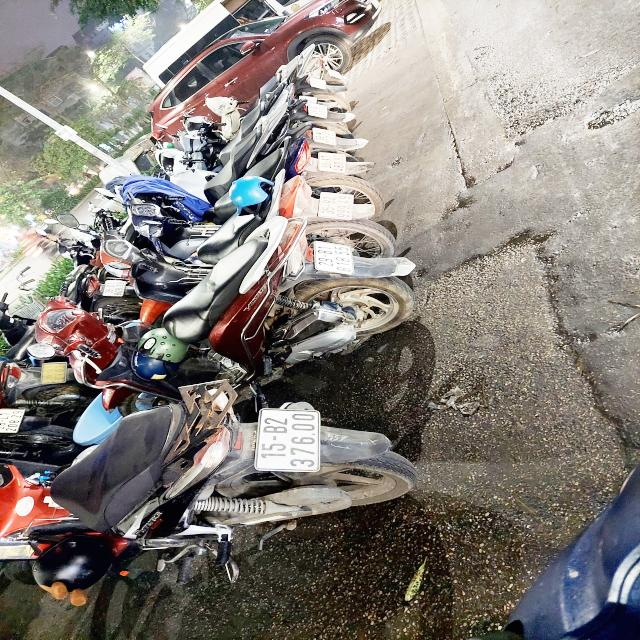license_plate: (250, 407, 326, 476), (313, 240, 357, 278), (316, 191, 357, 223), (317, 152, 349, 175), (312, 127, 340, 148), (101, 280, 130, 299), (308, 102, 330, 121)
